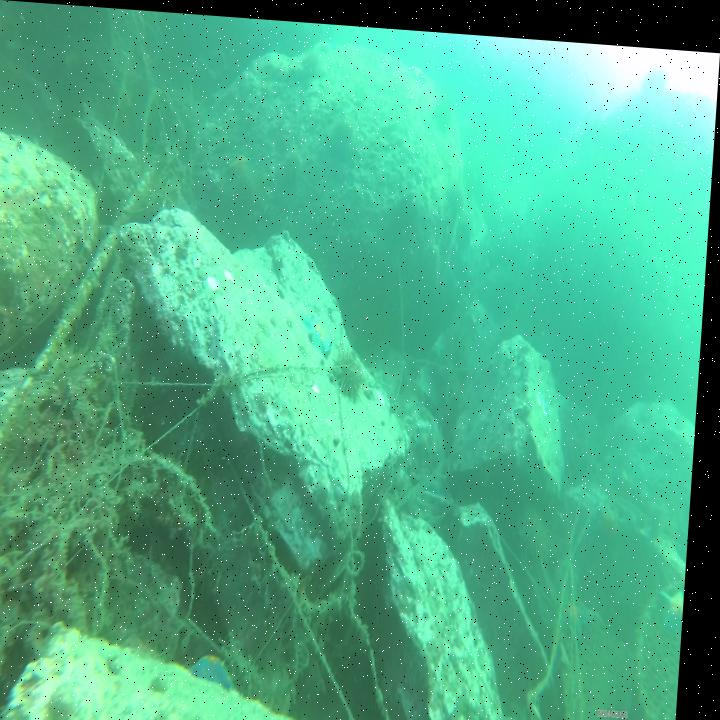echinus: (521, 487, 560, 556), (335, 342, 373, 397), (330, 109, 358, 150)
starfish: (199, 644, 243, 687), (568, 582, 601, 636), (304, 307, 341, 353), (665, 576, 692, 630), (227, 148, 256, 180)
